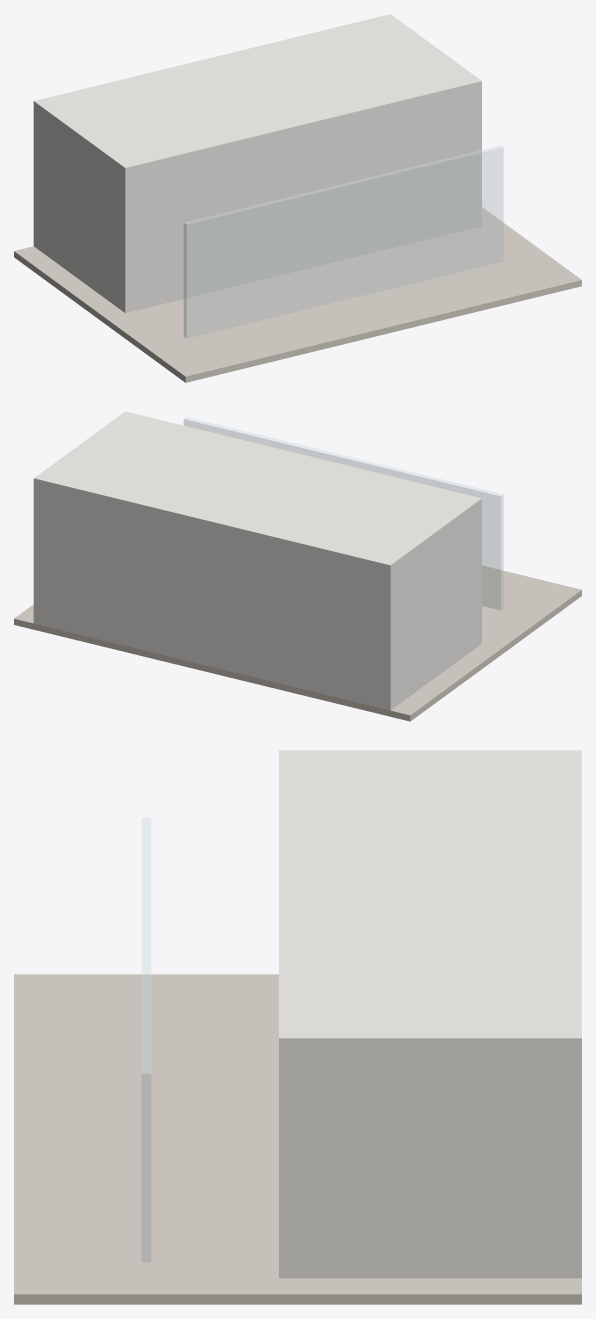
The model's file is restaurant-terrace.glb.
3 views of the same model, one above another, from view 1: azimuth 30°, elevation 25°; view 2: azimuth 150°, elevation 25°; view 3: azimuth 270°, elevation 25° (orthographic). The views are drawn at different scales.
Visible parts, largest first — view 1: spatial-root; view 2: spatial-root; view 3: spatial-root.
Part boxes in pixels (bbox=[...]): spatial-root: bbox=[14, 14, 581, 382]; spatial-root: bbox=[14, 411, 581, 721]; spatial-root: bbox=[14, 750, 581, 1304].
Bounding box in the file's own units: 8 × 2.92 × 6.
